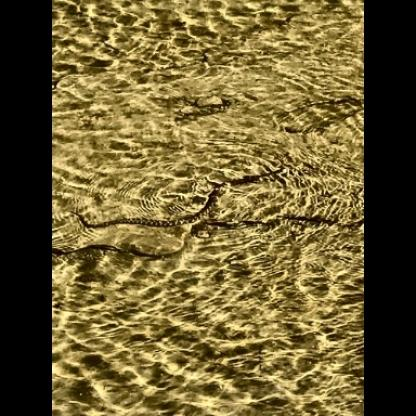Snake: (67, 161, 291, 234)
